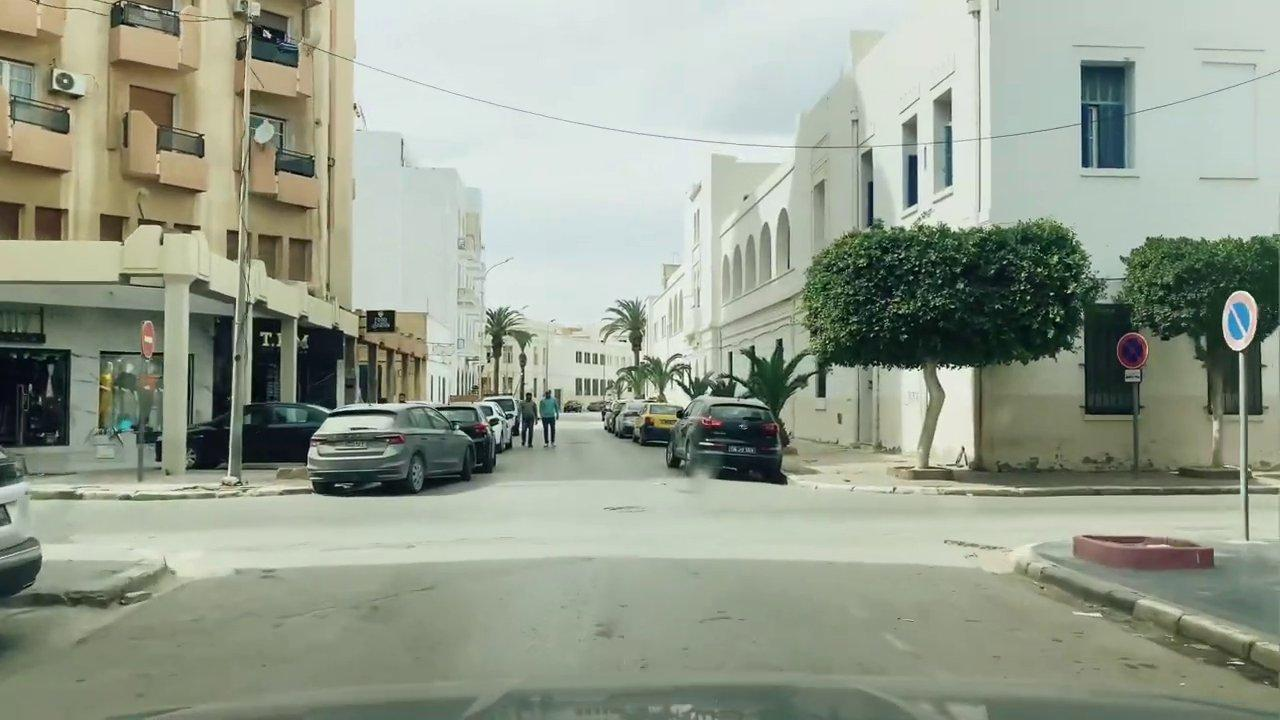no parking: (1217, 290, 1265, 357)
no stopping: (1113, 328, 1151, 372)
